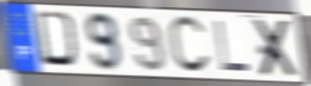9: (83, 10, 124, 74), (127, 15, 168, 74)
C: (166, 14, 213, 76)
D: (33, 9, 83, 71)
L: (213, 19, 252, 74)
X: (252, 18, 301, 79)
